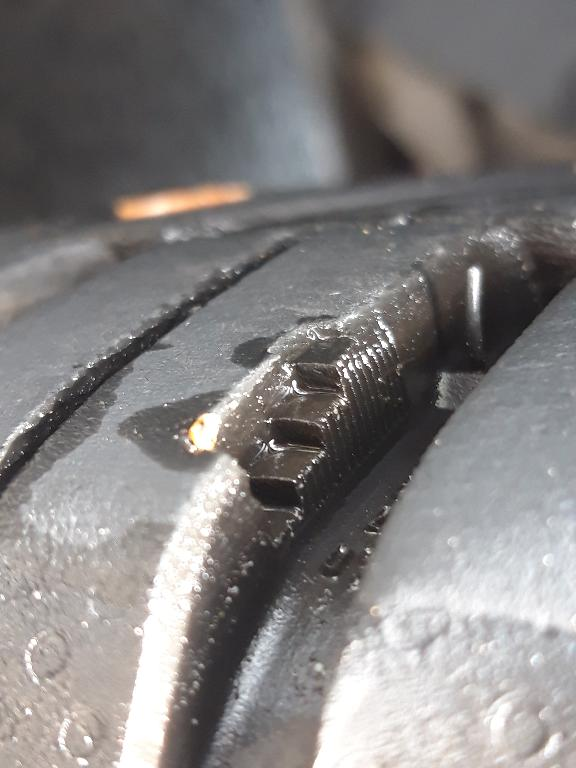temoin:80: (178, 301, 423, 569)
